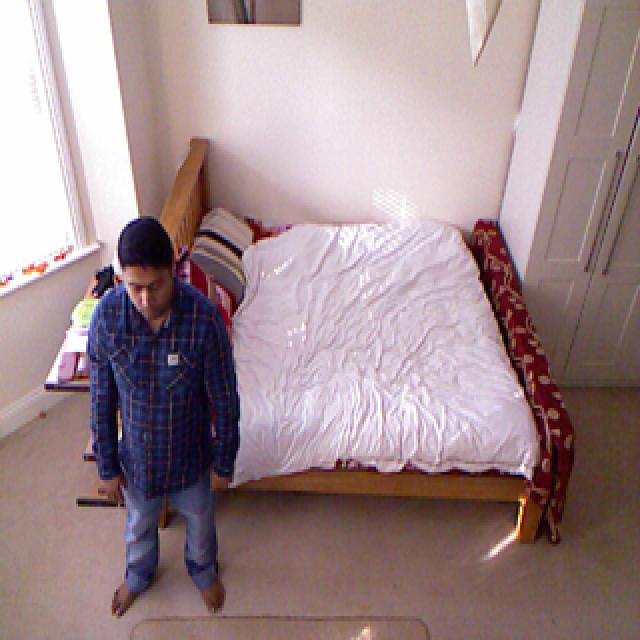standing: (84, 205, 242, 625)
